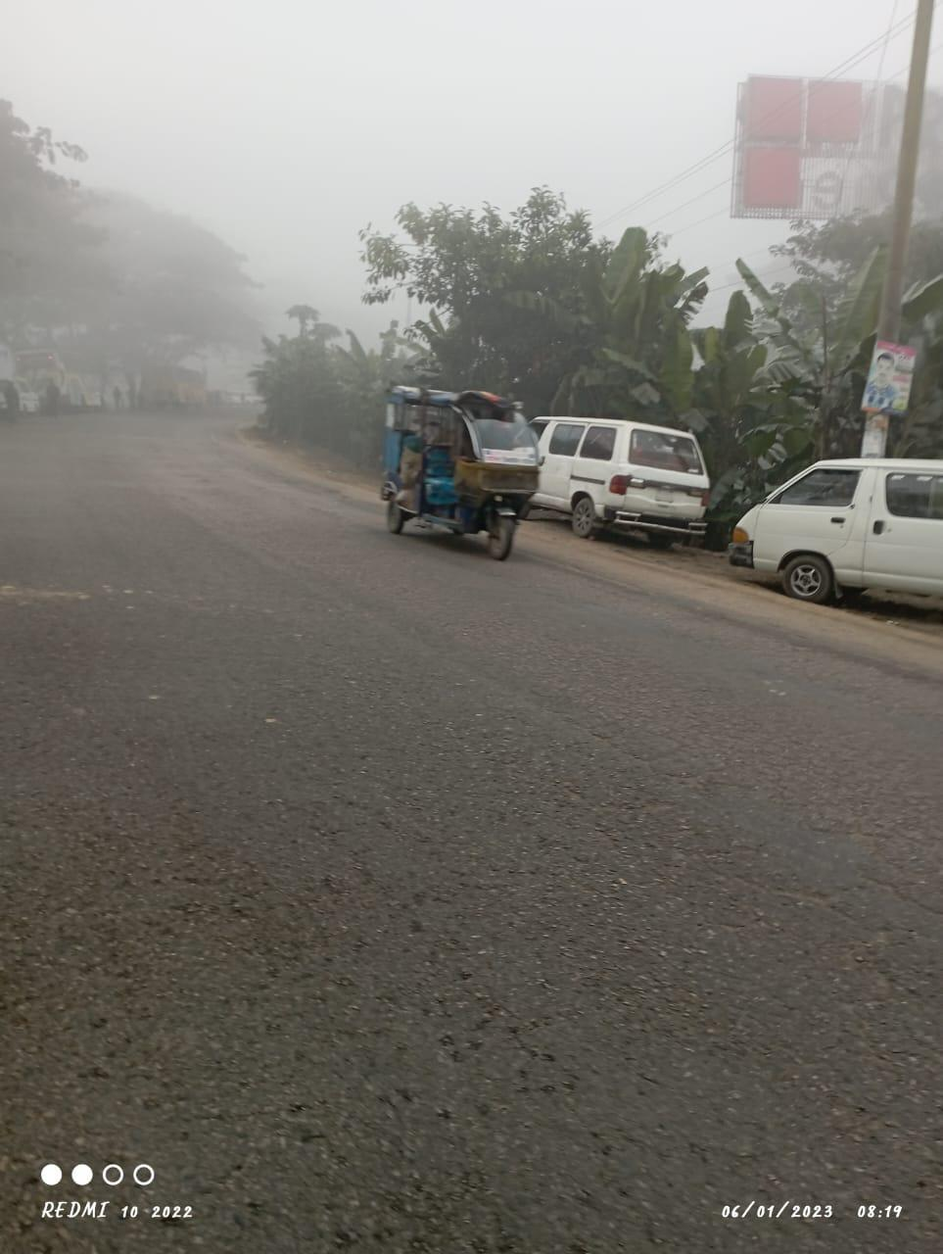Car: (723, 440, 943, 603), (370, 376, 545, 576), (525, 404, 723, 563)
